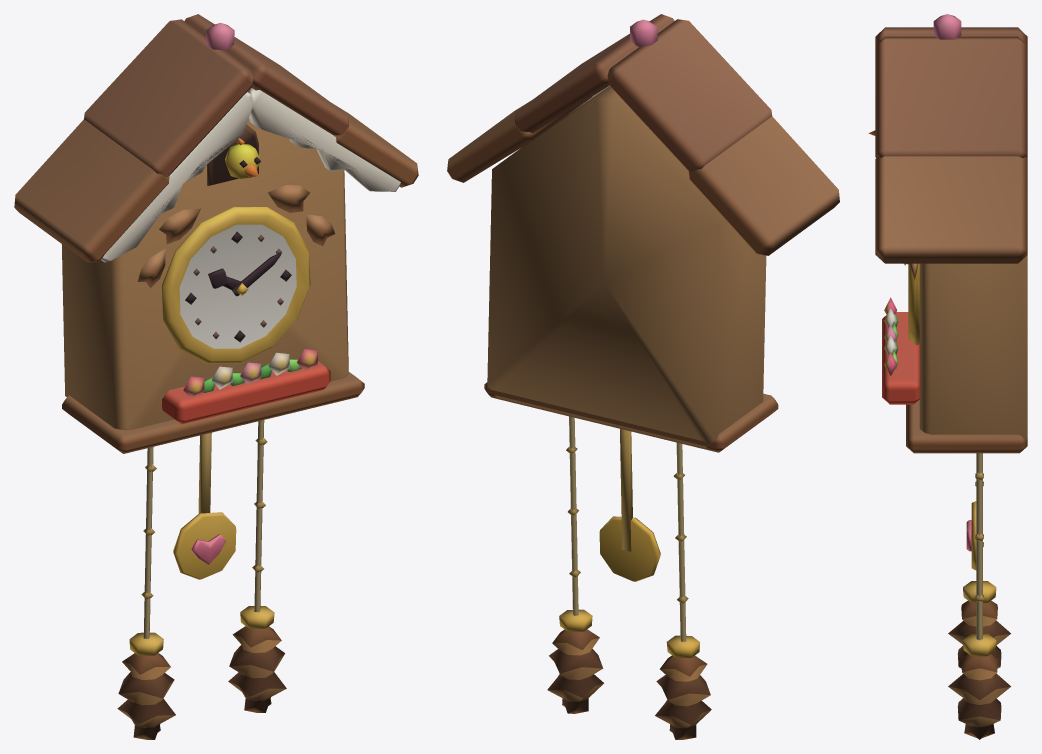
Rendered from furn-cuckooClock.glb.
3 renders of one model, left to right at view 1: azimuth 30°, elevation 25°; view 2: azimuth 150°, elevation 25°; view 3: azimuth 270°, elevation 25°, orthographic. The views are drawn at different scales.
Parts seen in each view (by area): view 1: furn-cuckooClock; view 2: furn-cuckooClock; view 3: furn-cuckooClock.
Part boxes in pixels (<box>): furn-cuckooClock: <box>14,14,418,739</box>; furn-cuckooClock: <box>447,14,839,739</box>; furn-cuckooClock: <box>868,14,1027,739</box>.
Bounding box in the file's own units: 0.4739 × 0.9635 × 0.199.
